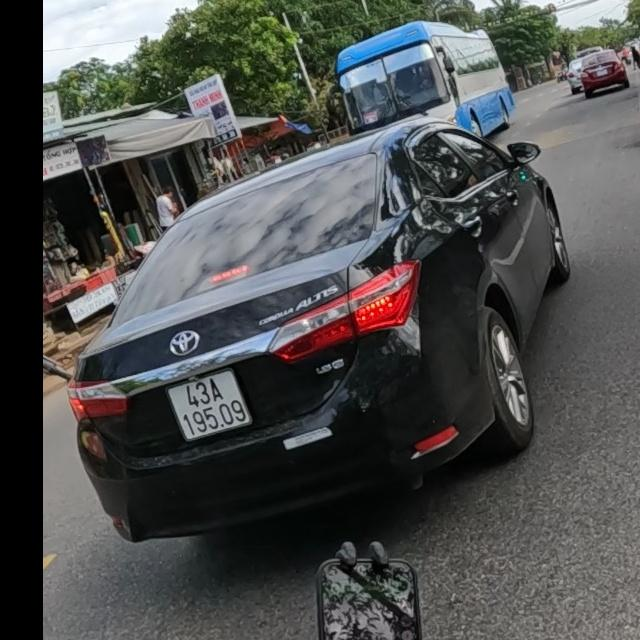license-plate: (163, 367, 253, 444)
